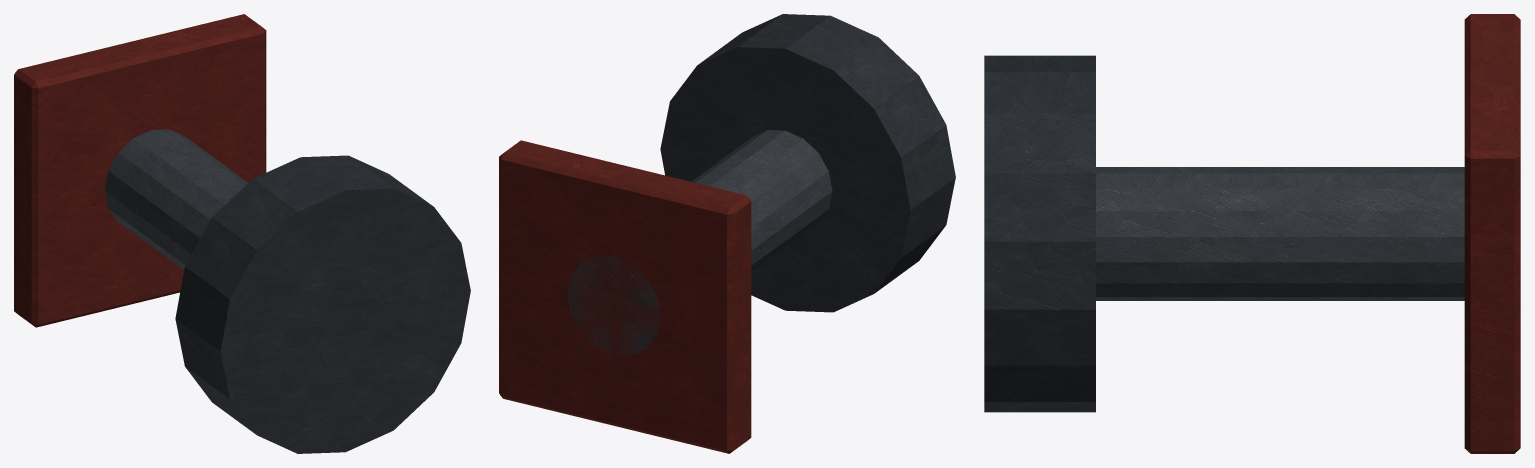
File: train_buffer.gltf
3 views of the same model, side by side, from view 1: azimuth 30°, elevation 25°; view 2: azimuth 150°, elevation 25°; view 3: azimuth 270°, elevation 25° (orthographic). The views are drawn at different scales.
Bounding box in the file's own units: 0.64 × 0.64 × 0.96.
3 materials, 3 textured.
